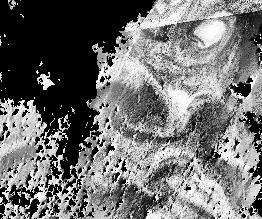CE: (193, 11, 236, 54)
